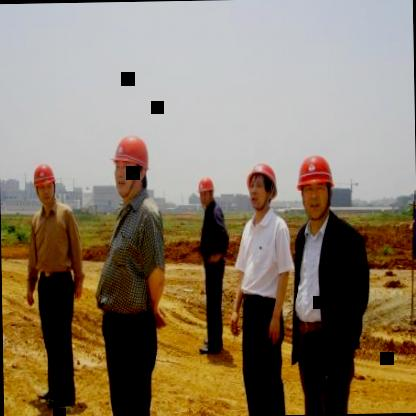helmet: (108, 131, 150, 204), (293, 151, 335, 221), (244, 159, 280, 215), (30, 160, 58, 212), (194, 171, 219, 213)
